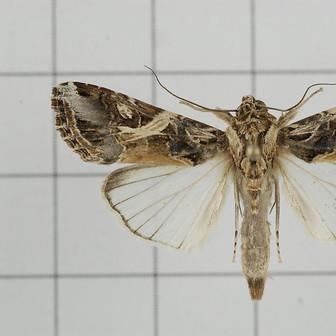Spodoptera litura: (51, 65, 336, 301)
